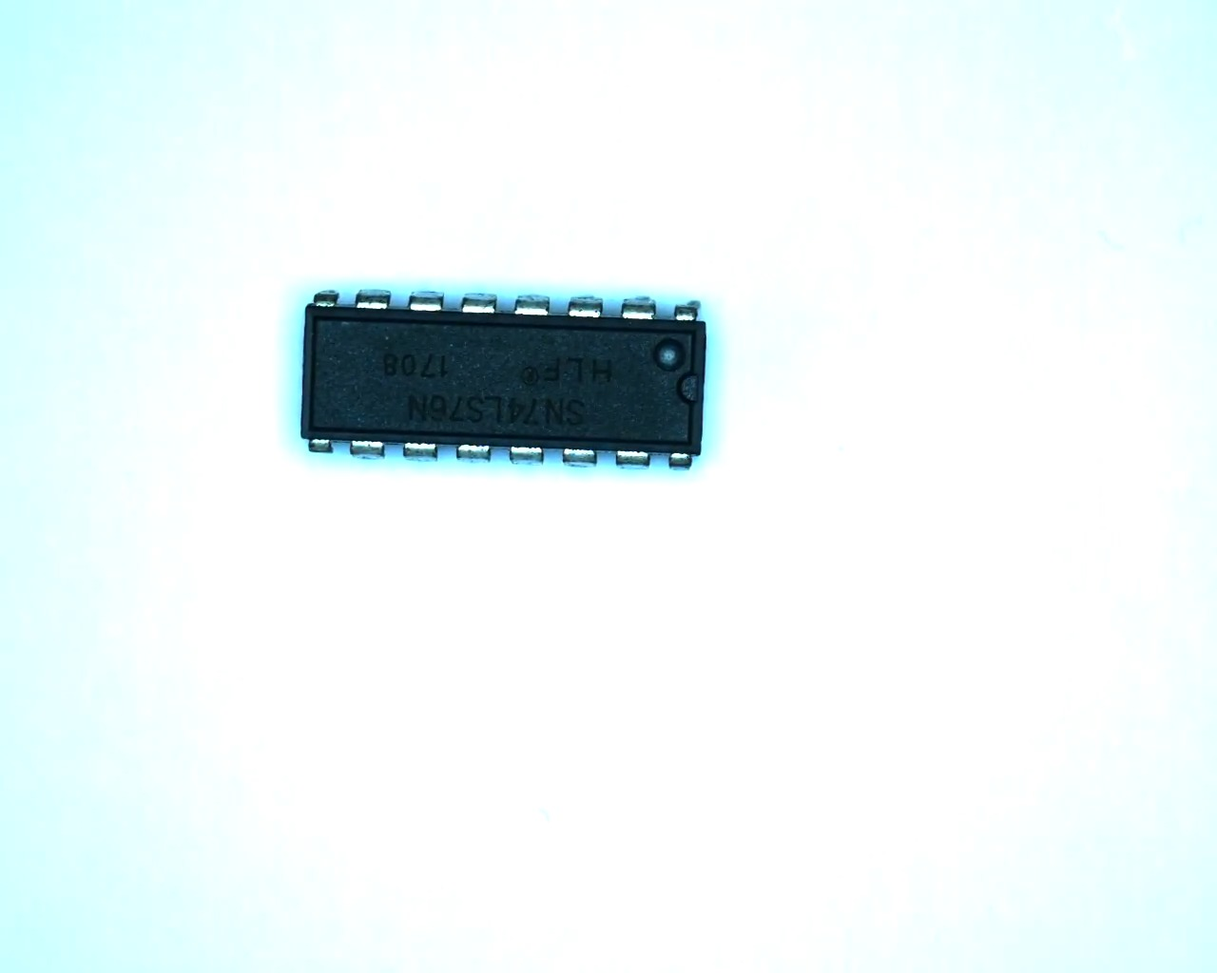IC: (292, 287, 716, 478)
notch: (675, 367, 706, 410)
